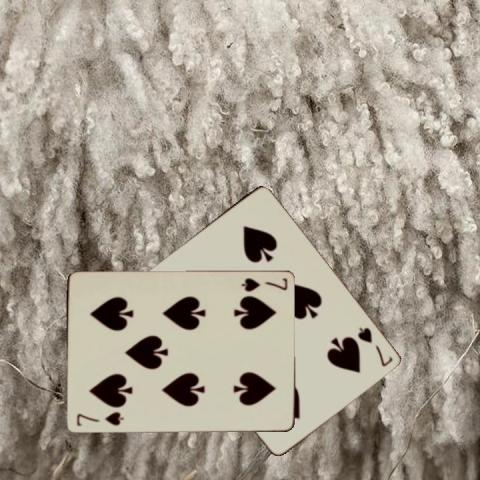7s: (354, 324, 393, 368), (73, 409, 125, 428), (238, 275, 289, 294)
